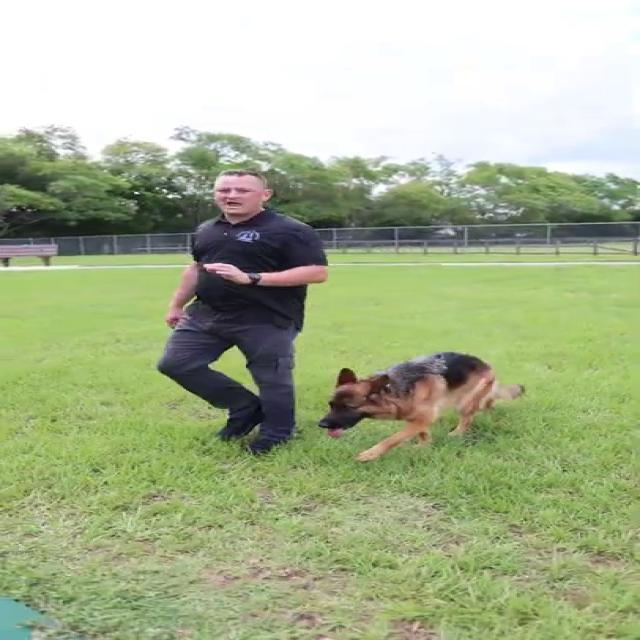Unleashed_Dog: (248, 349, 525, 462)
